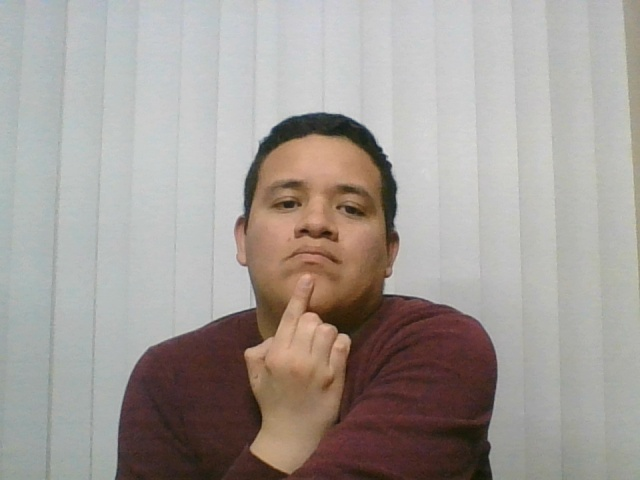Red: (175, 252, 406, 469)
